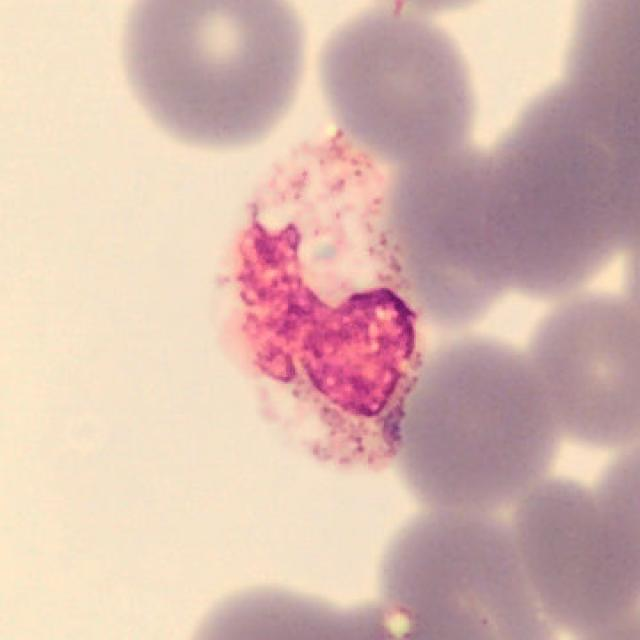Restos celulares: (210, 126, 427, 468)
